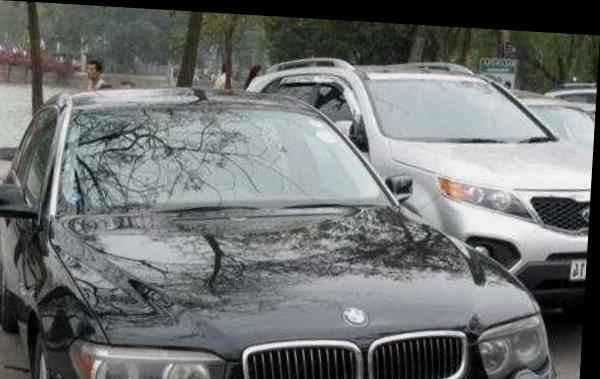License_Plate: (569, 256, 585, 284)
